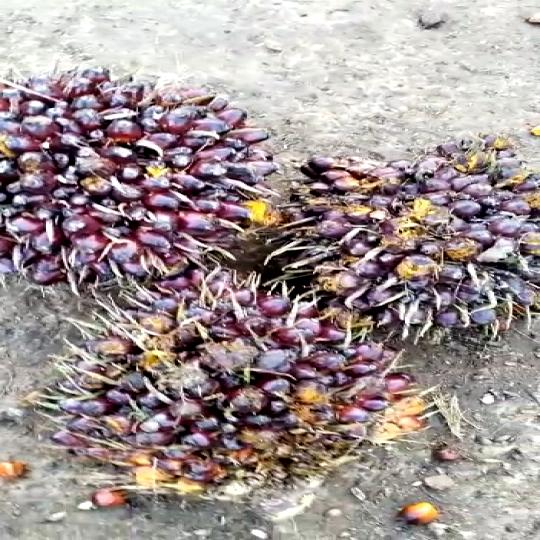kurang masak: (29, 272, 434, 508), (0, 60, 277, 290), (298, 132, 540, 341)
